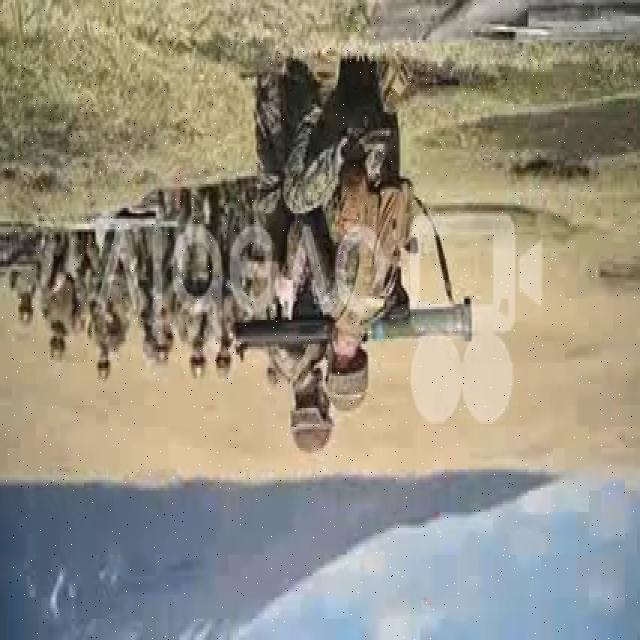bazooka: (233, 294, 480, 360)
